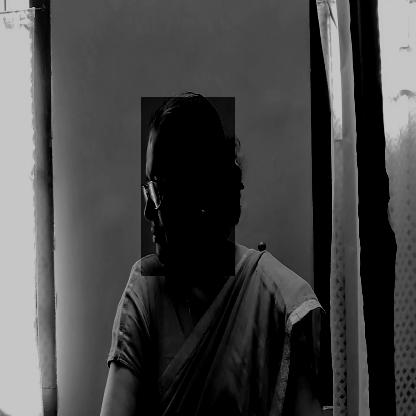Distracted: (141, 97, 235, 276)
